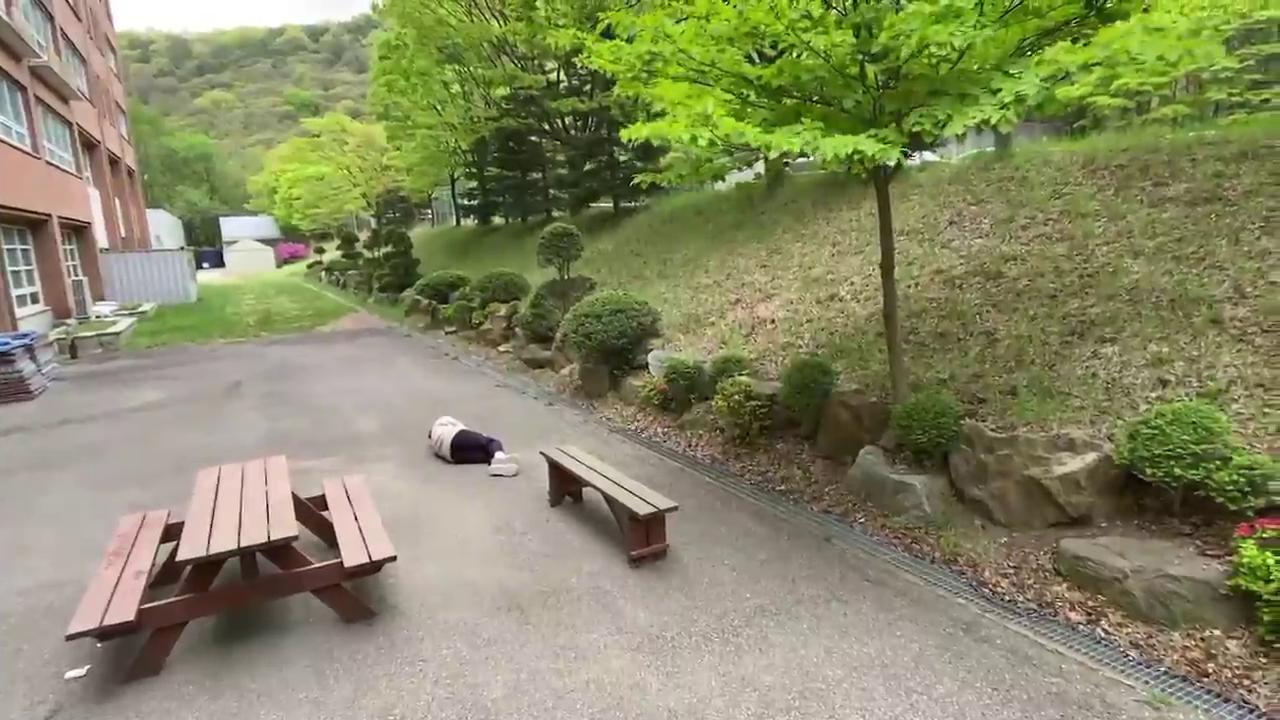faint: (425, 411, 525, 483)
